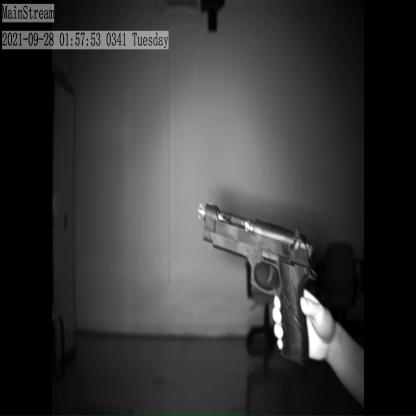weapon: (199, 200, 318, 371)
